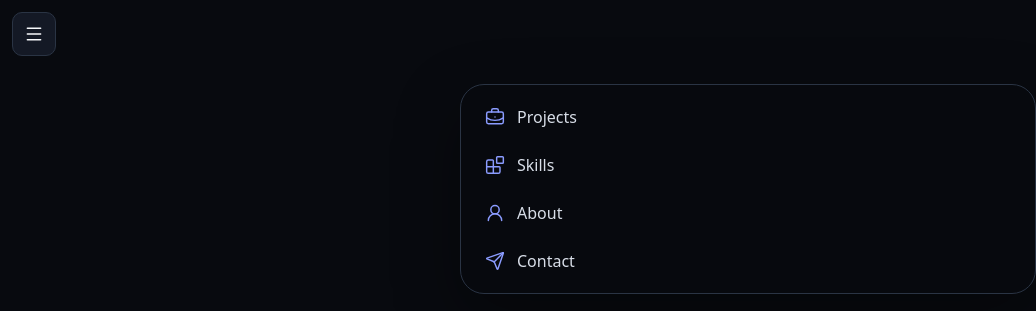
site navigation › uses disclosure keyboard behavior and returns focus on Escape
Click the button named "Open navigation menu": click(34, 34) [12,12,56,56]
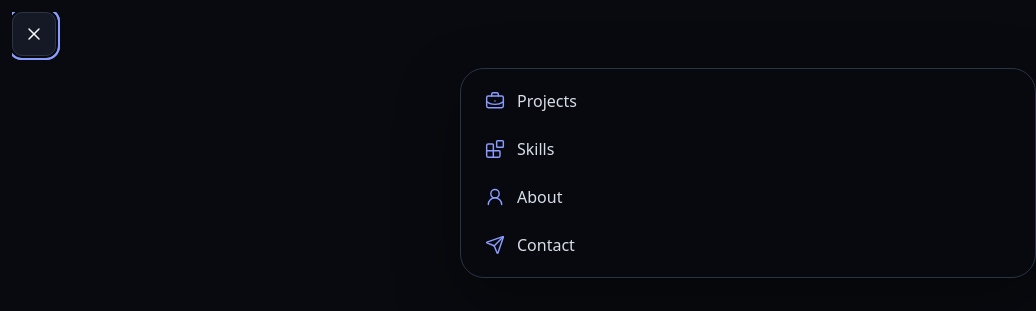
Now the button named "Open navigation menu" is expanded, box [12,12,56,56]
Press Tab
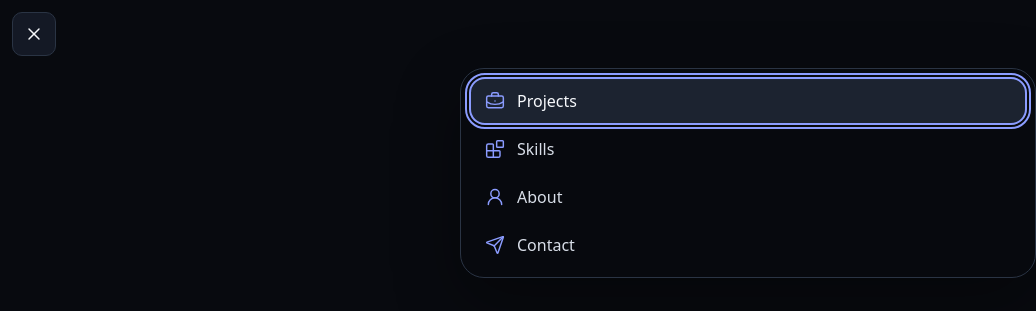
Press Escape
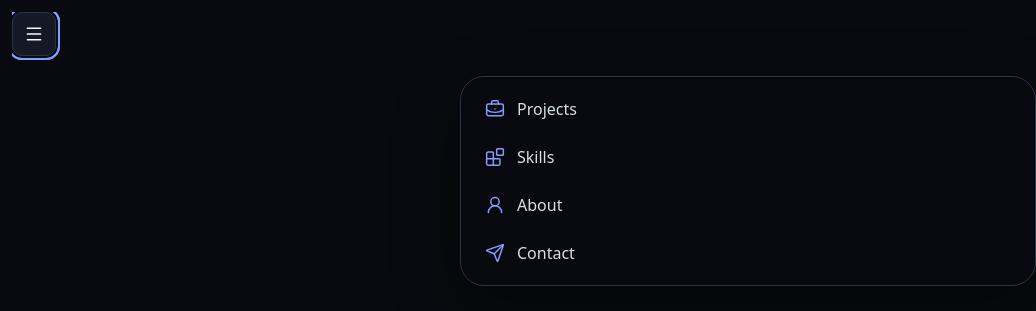
Now the button named "Open navigation menu" is collapsed, box [12,12,56,56]
